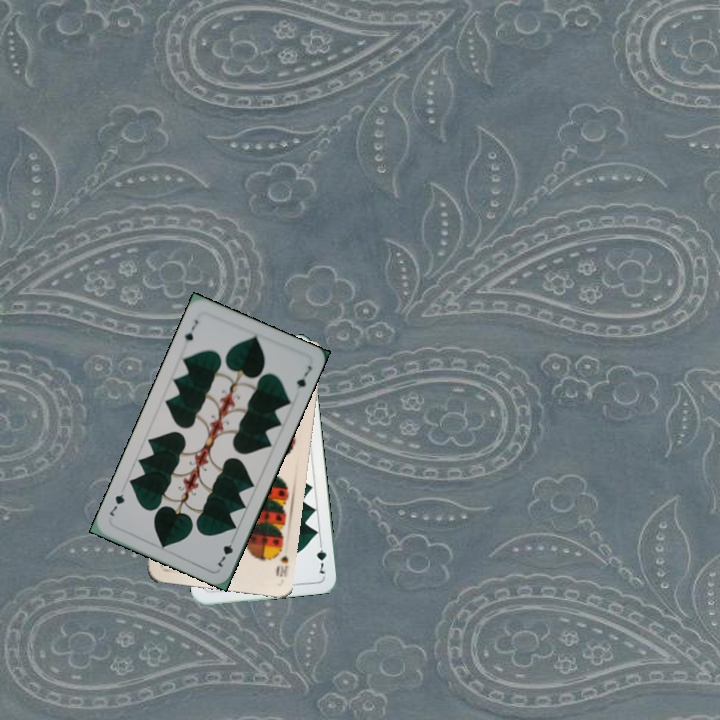G7: (214, 532, 238, 569), (312, 537, 329, 576), (180, 315, 201, 344)
S10: (272, 541, 291, 580)
